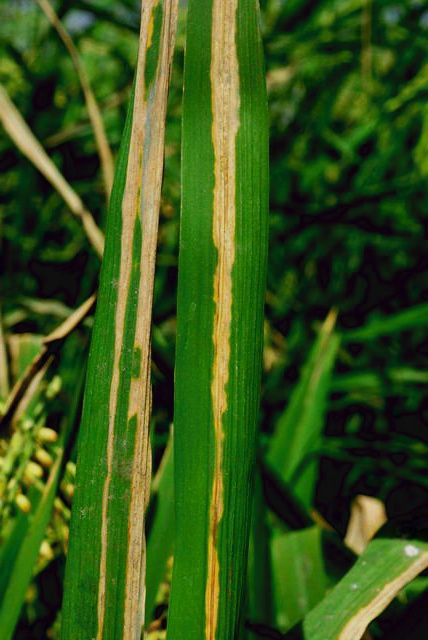Leaf_Blast: (80, 1, 174, 634), (189, 1, 244, 635)
